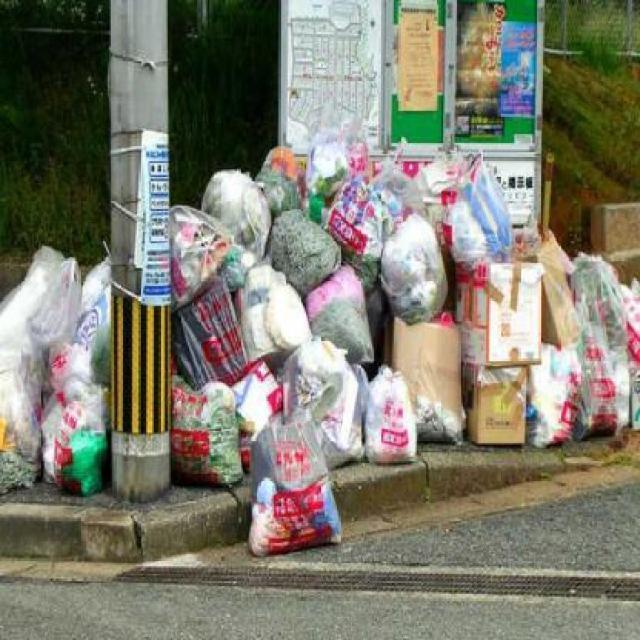Garbage_Bag: (248, 396, 344, 558)
Plastic_Bag: (366, 362, 419, 469)
